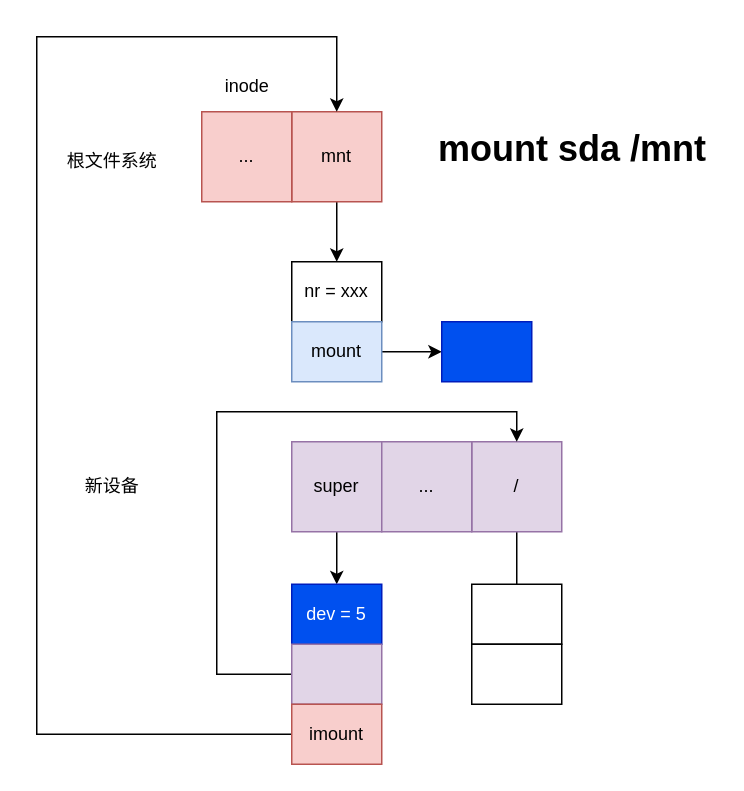
Some shapes in this 744 by 791 pixel diagram are drawn without their labels. Here are the shapes that lost their labels. From the top down, the centre of each, then its label:
the point at 486,351: = 5(dev)
the point at 516,613: nr = 1
the point at 336,673: iroot
the point at 516,673: mount = 0
